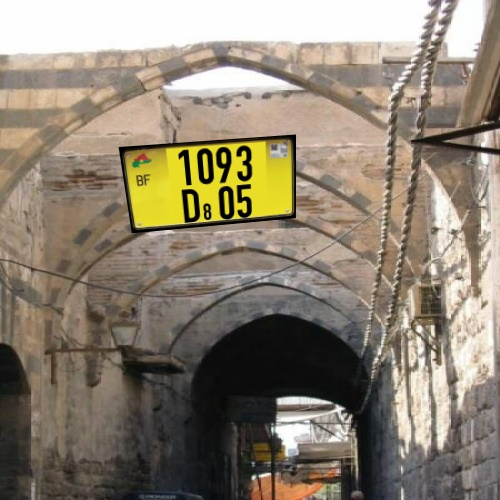plate: (110, 131, 312, 244)
